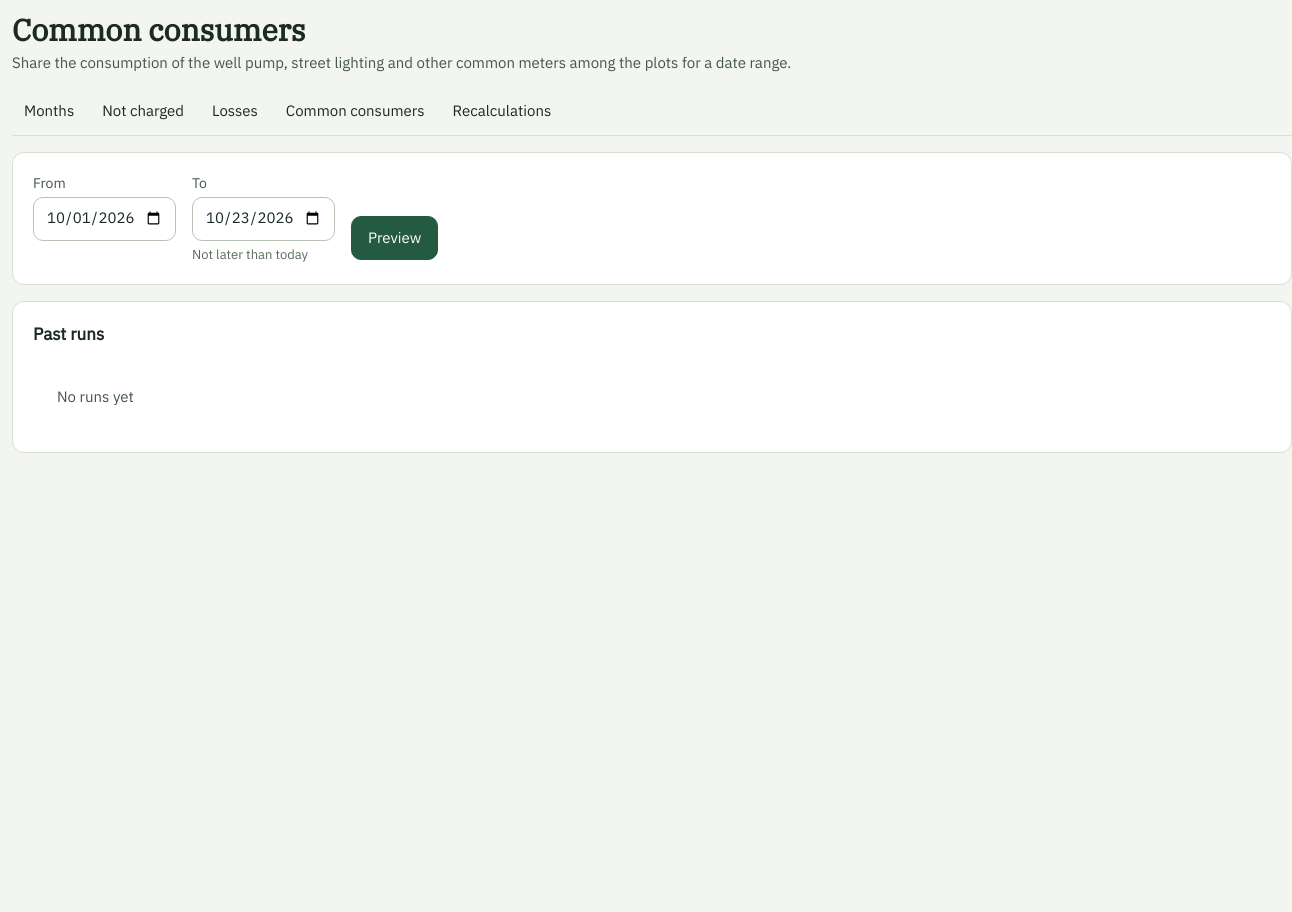
Test: CommonConsumersPage › says there is no tariff and does not offer to book
This screenshot has width=1292, height=912.
Click the button "Preview": [395, 238] box [351, 216, 438, 260]
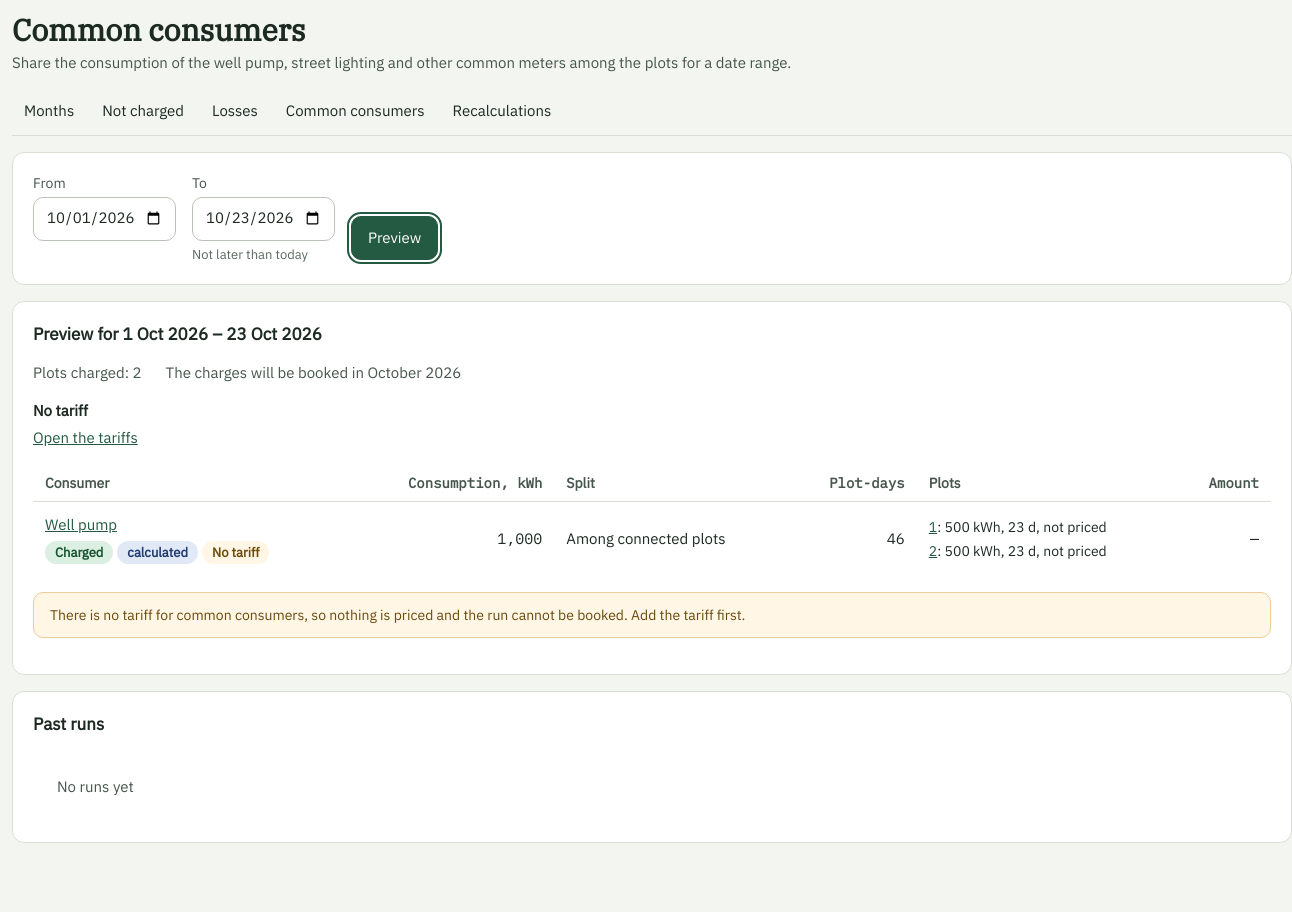
Check: the 1st text "No tariff" is shown, box [33, 400, 88, 422]
Check: the text "the run cannot be booked" is shown, box [50, 606, 745, 624]
Check: the number of list items "1 : 500 kWh, 23 d, not priced" is 2, box [929, 518, 1107, 536]; [929, 542, 1107, 560]
